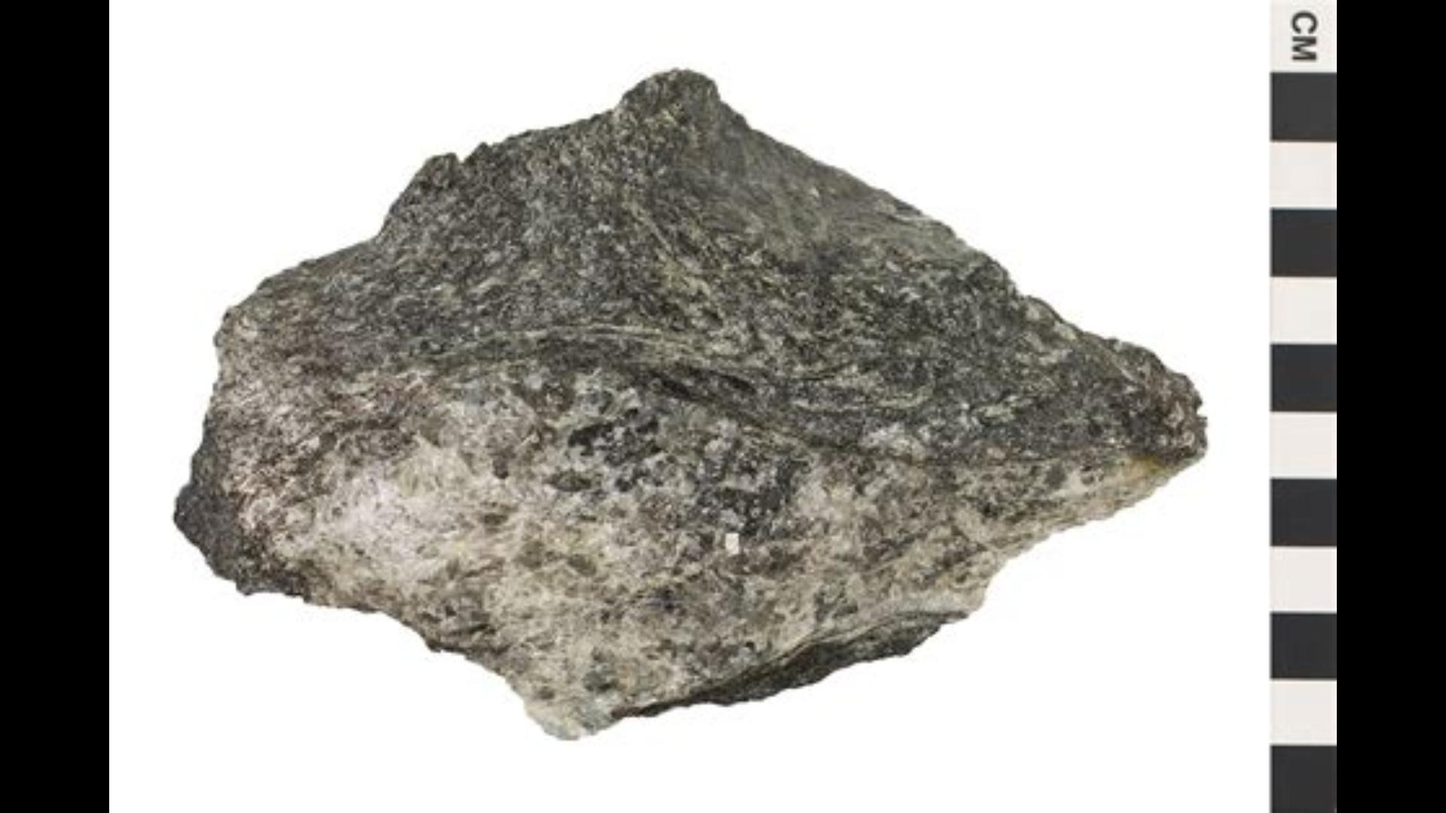rock: (177, 70, 1202, 738)
